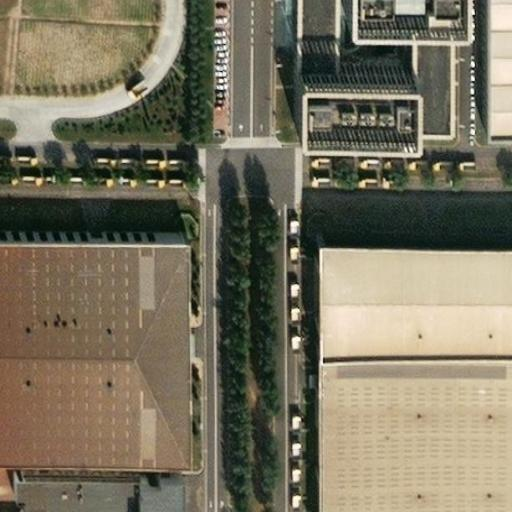building: (312, 246, 512, 511), (0, 218, 168, 436), (0, 447, 159, 504), (287, 47, 403, 108), (287, 0, 320, 47)
